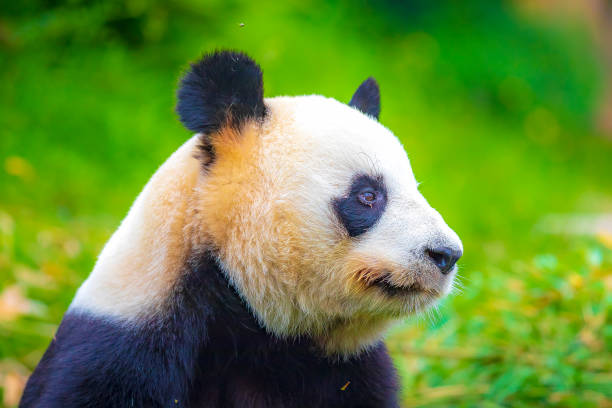panda: (173, 49, 515, 381)
